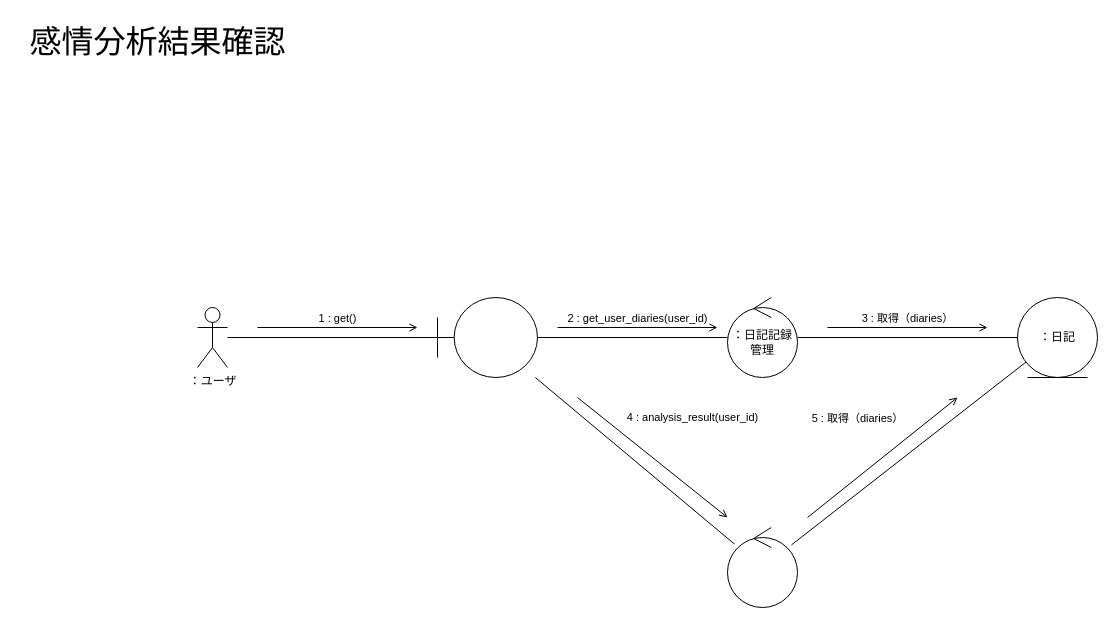
Some shapes in this 1115 by 625 pixel diagram are drawn without their labels. The shapes that lost their labels are listed below. From the top down, each one's box as (x1, y1, x2, y2) in pixels, then its label:
(436, 296, 538, 378): : 分析結果 ページ
(726, 526, 798, 608): ：分析管理
